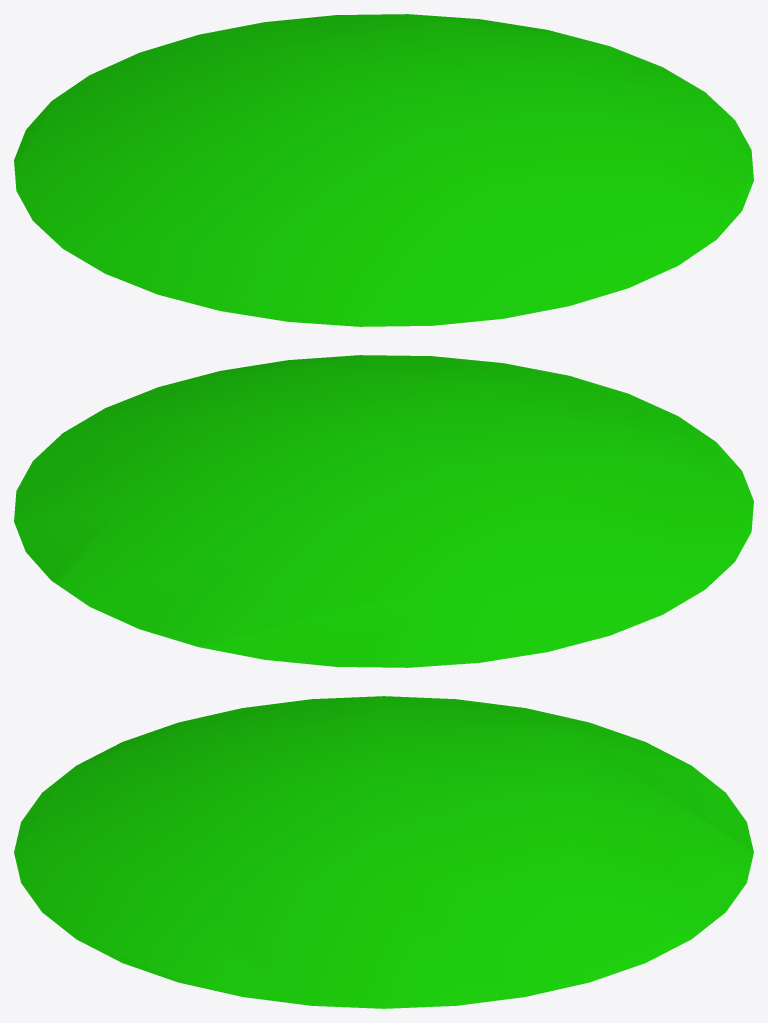
Rendered from 01-Gauge-Glass-Rounded.fbx.
3 renders of one model, top to bottom at view 1: azimuth 30°, elevation 25°; view 2: azimuth 150°, elevation 25°; view 3: azimuth 270°, elevation 25°, orthographic.
Visible parts, largest first — view 1: 01-Gauge-Glass-Rounded; view 2: 01-Gauge-Glass-Rounded; view 3: 01-Gauge-Glass-Rounded.
Boxes of the visible parts, left/top/right/bottom form: 01-Gauge-Glass-Rounded: left=14, top=14, right=753, bottom=326; 01-Gauge-Glass-Rounded: left=14, top=355, right=753, bottom=667; 01-Gauge-Glass-Rounded: left=14, top=696, right=753, bottom=1008.
Size of the model in its own units: 200 by 21.07 by 200.
